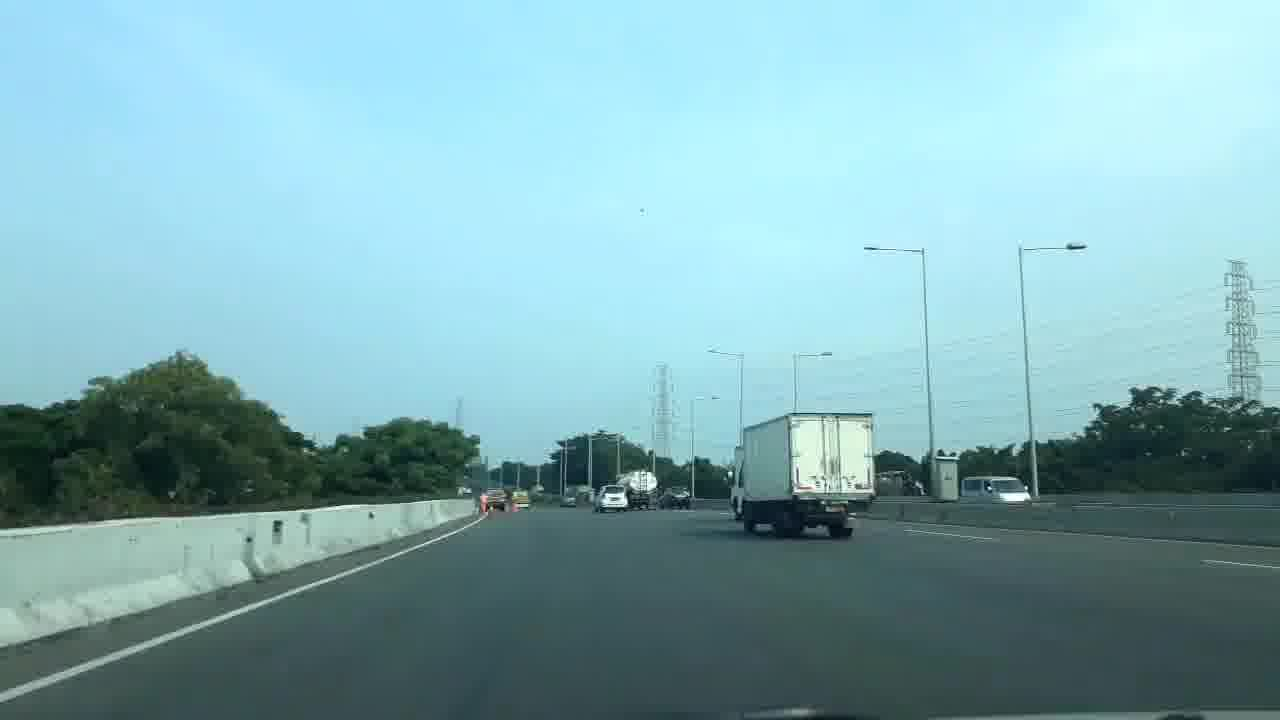plate_positive: (824, 504, 847, 513)
